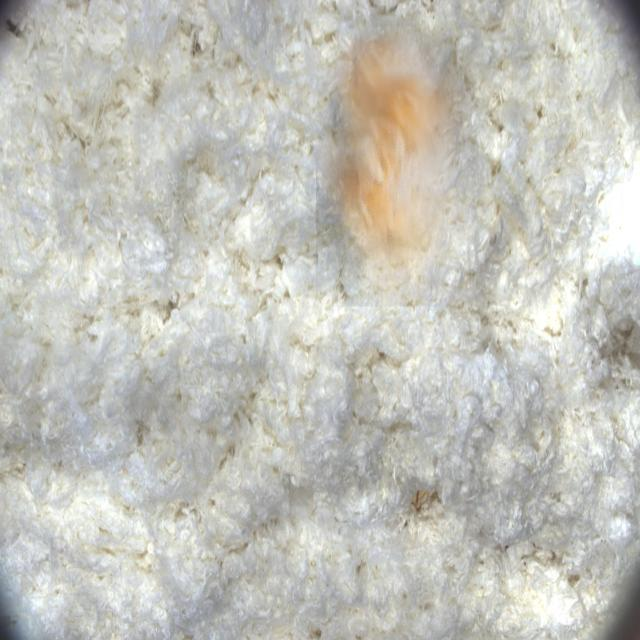dust: (316, 27, 472, 307)
